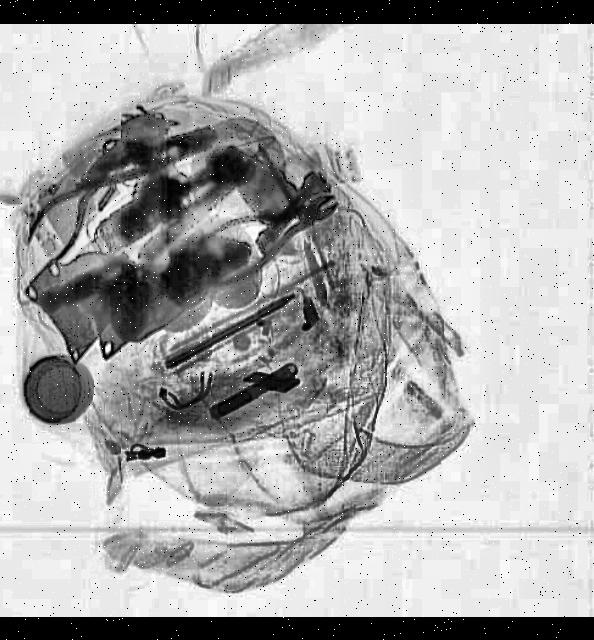Pliers: (191, 174, 351, 296), (20, 130, 138, 274)
